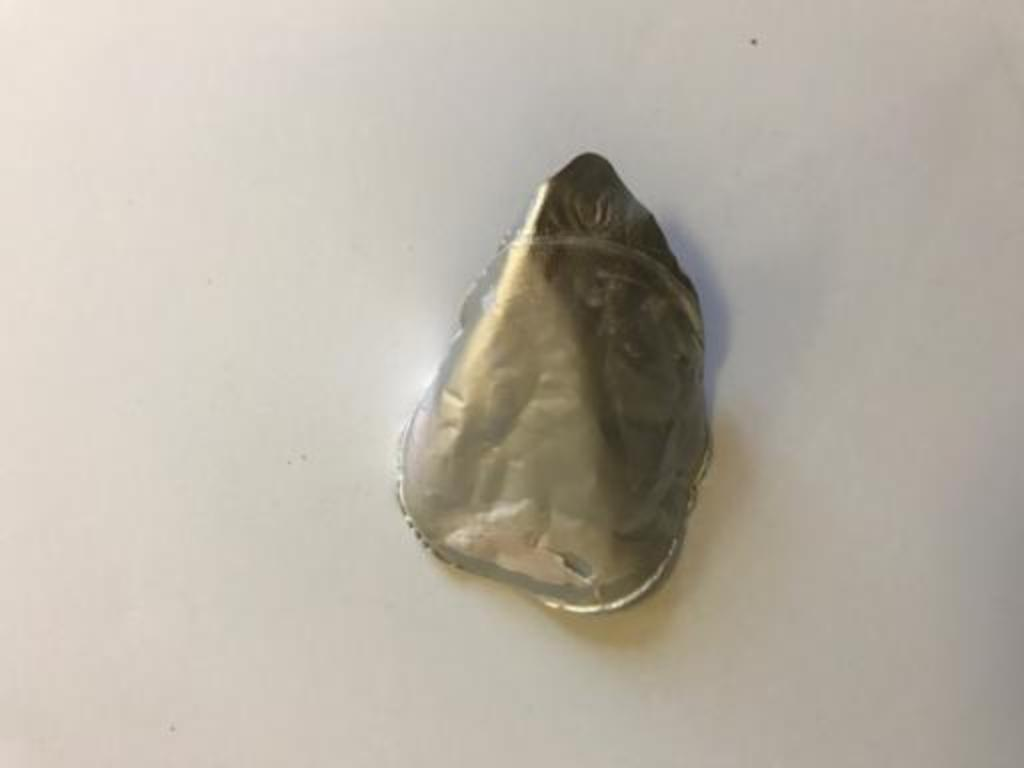garbage: (340, 104, 774, 636)
